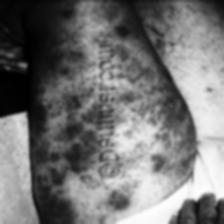Toxin: (40, 69, 94, 224), (120, 91, 192, 181), (44, 0, 102, 54), (117, 26, 151, 80), (105, 186, 133, 210)
